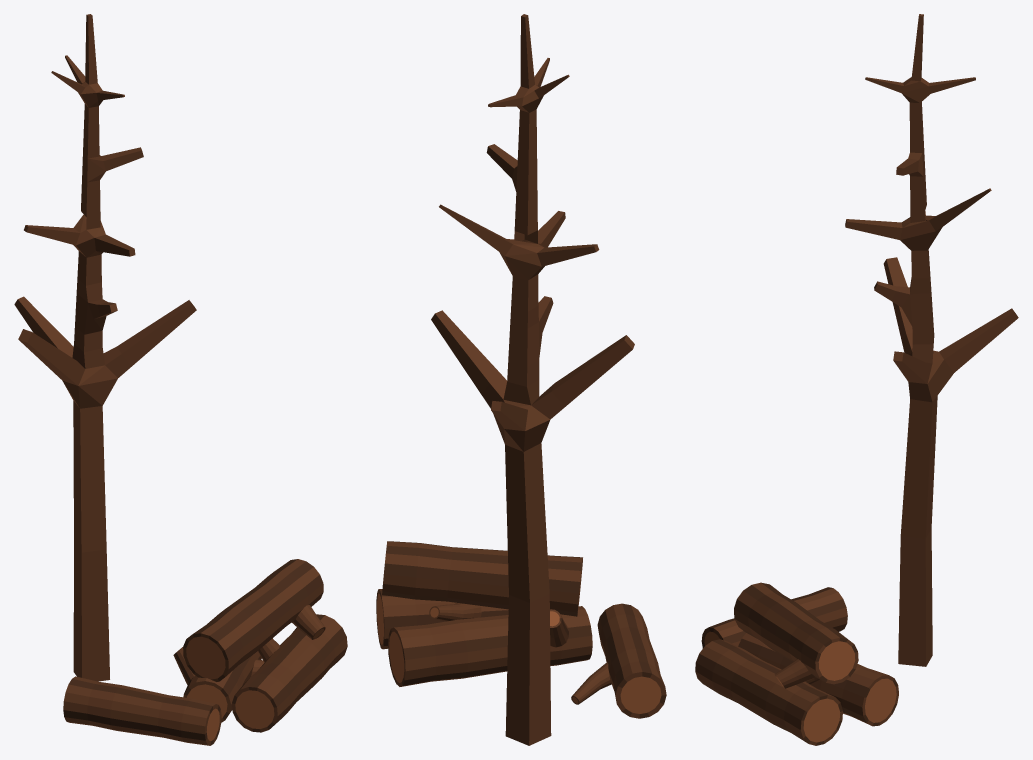
File: Wood1.fbx
3 views of the same model, side by side, from view 1: azimuth 30°, elevation 25°; view 2: azimuth 150°, elevation 25°; view 3: azimuth 270°, elevation 25° (orthographic). The views are drawn at different scales.
Visible parts, largest first — view 1: Cube.038; view 2: Cube.038; view 3: Cube.038.
Boxes of the visible parts, x1,y1,x2,y2 form: Cube.038: (14,14,347,745); Cube.038: (376,14,666,745); Cube.038: (695,14,1018,745).
Bounding box in the file's own units: 192 × 430 × 195.
